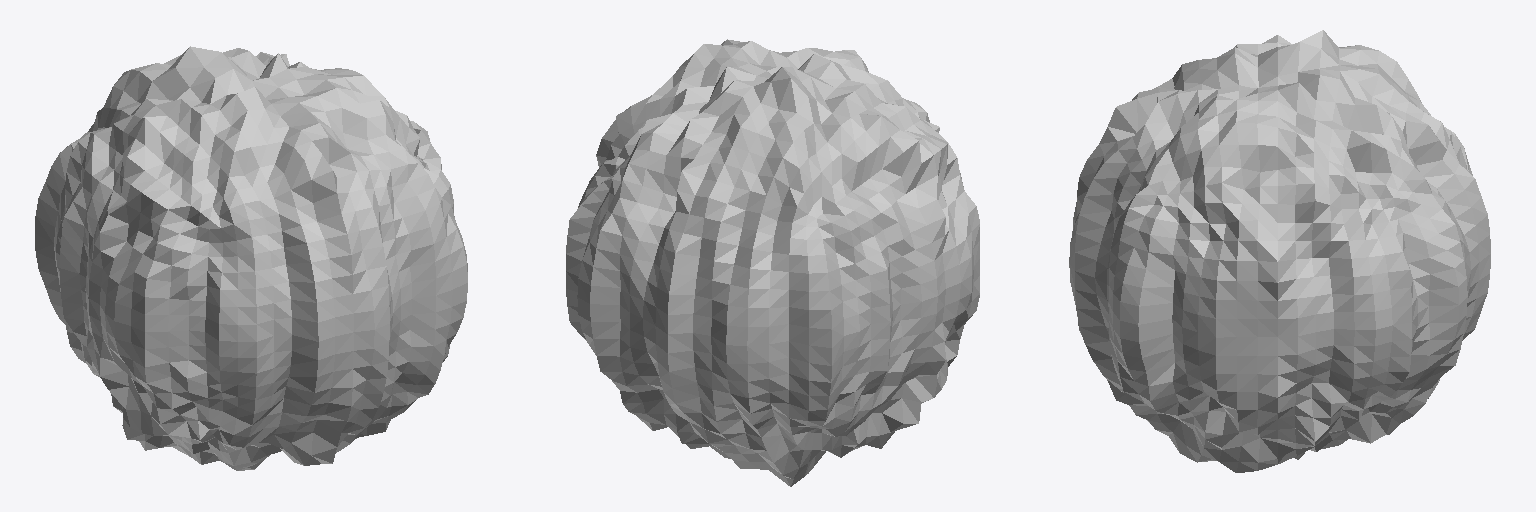
Rendered from asteroid191.obj.
3 views of the same model, side by side, from view 1: azimuth 30°, elevation 25°; view 2: azimuth 150°, elevation 25°; view 3: azimuth 270°, elevation 25° (orthographic).
Parts seen in each view (by area): view 1: Cube_Cube.002; view 2: Cube_Cube.002; view 3: Cube_Cube.002.
Part boxes in pixels (bbox=[...]): Cube_Cube.002: bbox=[35, 46, 467, 470]; Cube_Cube.002: bbox=[566, 39, 979, 486]; Cube_Cube.002: bbox=[1069, 30, 1490, 472].
Bounding box in the file's own units: 1.73 × 1.95 × 1.82.